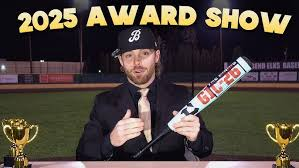baseball bat: (129, 54, 254, 160)
